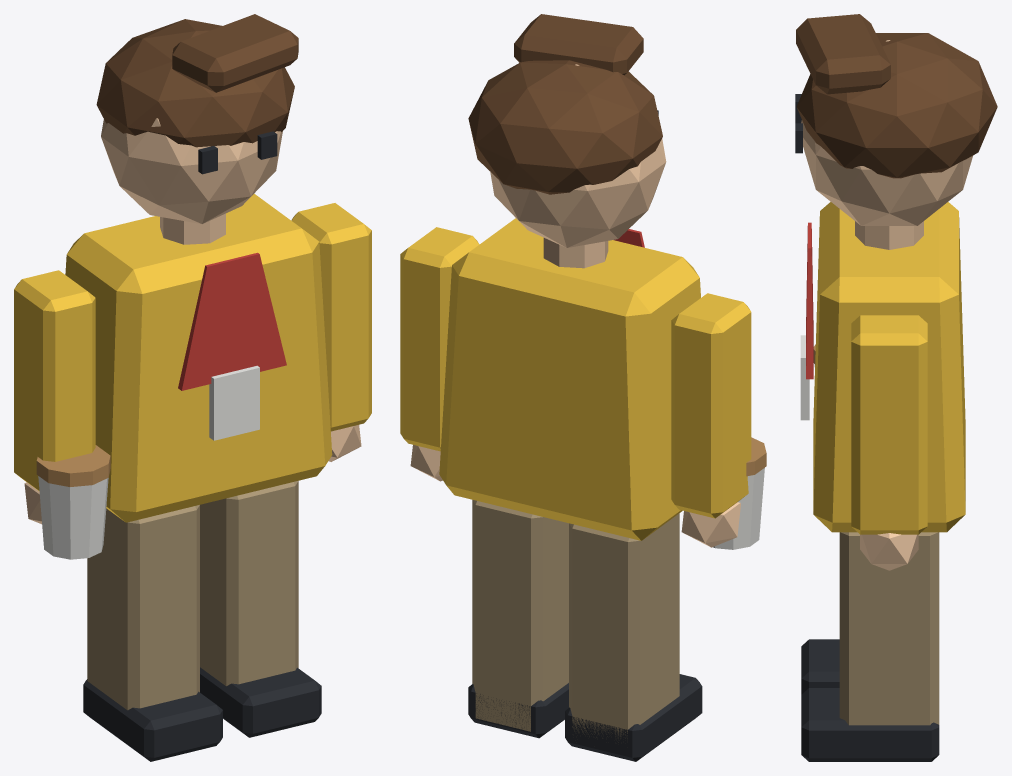
The model's file is intern.glb.
3 renders of one model, left to right at view 1: azimuth 30°, elevation 25°; view 2: azimuth 150°, elevation 25°; view 3: azimuth 270°, elevation 25°, orthographic. The views are drawn at different scales.
Parts seen in each view (by area): view 1: Body, LegR, LegL, ArmR, Props, ArmL; view 2: Body, LegR, LegL, ArmR, ArmL; view 3: Body, LegL, ArmL, LegR, Props.
Part boxes in pixels (box(x1,y1,x2,y2)): Body: box(65, 14, 332, 522); LegR: box(83, 505, 222, 761); LegL: box(200, 481, 321, 737); ArmR: box(14, 270, 110, 559); Props: box(178, 252, 286, 440); ArmL: box(291, 203, 371, 461); Body: box(439, 14, 700, 540); LegR: box(565, 513, 702, 761); LegL: box(468, 500, 568, 738); ArmR: box(671, 293, 766, 549); ArmL: box(400, 227, 479, 481); Body: box(795, 14, 997, 532); LegL: box(801, 532, 939, 761); ArmL: box(851, 315, 927, 570); LegR: box(801, 639, 839, 694); Props: box(800, 222, 813, 420).
Size of the model in its own units: 0.4672 by 0.92 by 0.2432.
